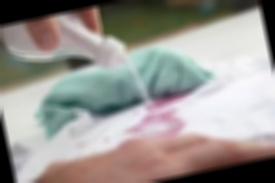wine: (148, 83, 185, 109), (143, 104, 179, 125), (169, 122, 183, 135), (124, 124, 138, 136)
